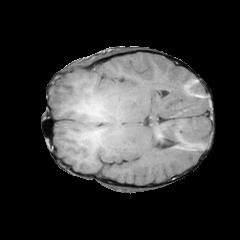glioma: (70, 69, 130, 157)
